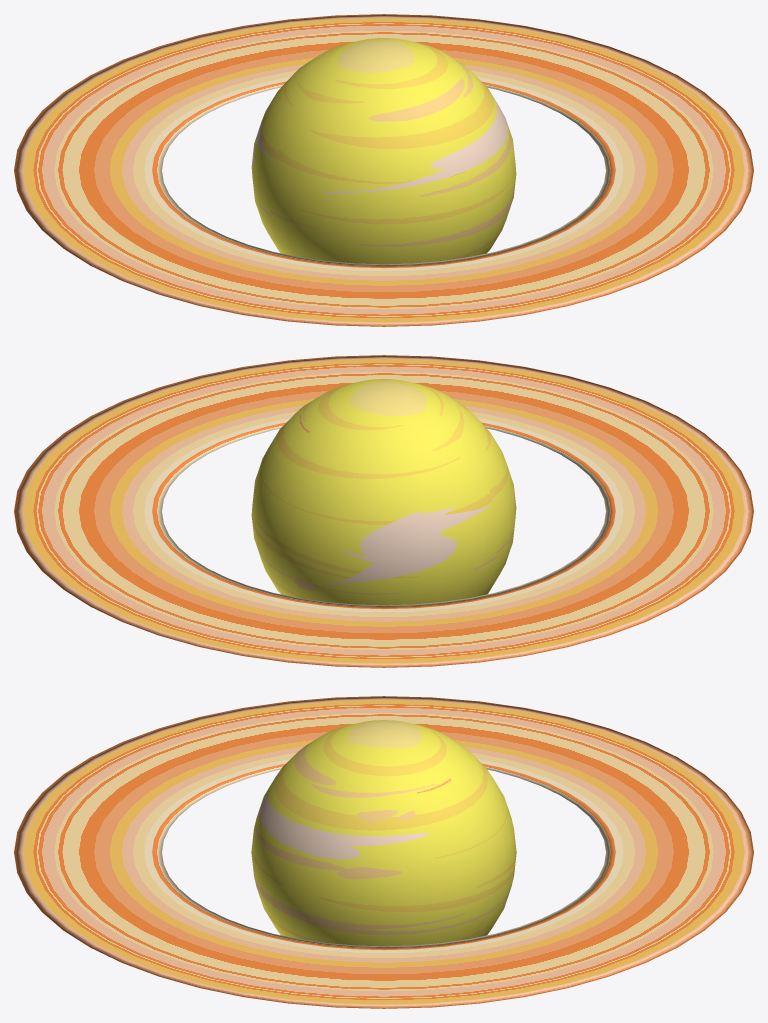
File: Planet2.obj
3 views of the same model, one above another, from view 1: azimuth 30°, elevation 25°; view 2: azimuth 150°, elevation 25°; view 3: azimuth 270°, elevation 25° (orthographic).
Parts seen in each view (by area): view 1: Torus, Sphere; view 2: Torus, Sphere; view 3: Torus, Sphere.
Boxes of the visible parts, bbox=[...] form: Torus: bbox=[14, 14, 753, 326]; Sphere: bbox=[251, 38, 516, 264]; Torus: bbox=[14, 355, 753, 667]; Sphere: bbox=[251, 379, 516, 605]; Torus: bbox=[14, 696, 753, 1008]; Sphere: bbox=[251, 720, 516, 946].
Size of the model in its own units: 55.79 by 20 by 55.79.
